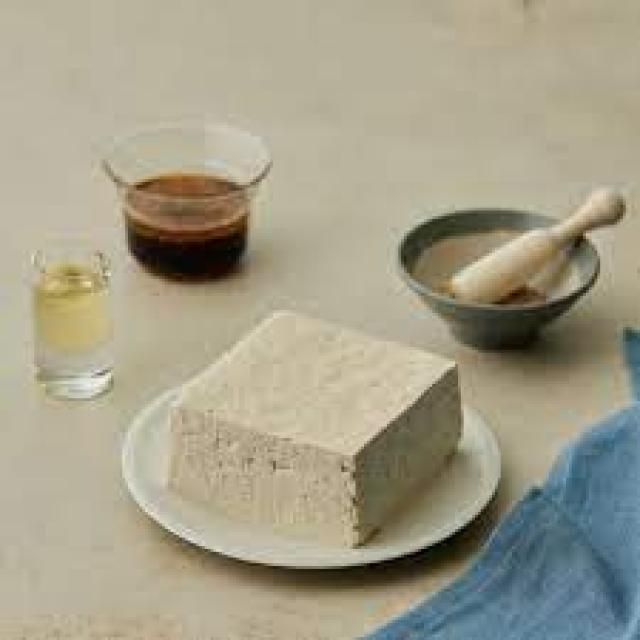tofu: (138, 304, 491, 569)
